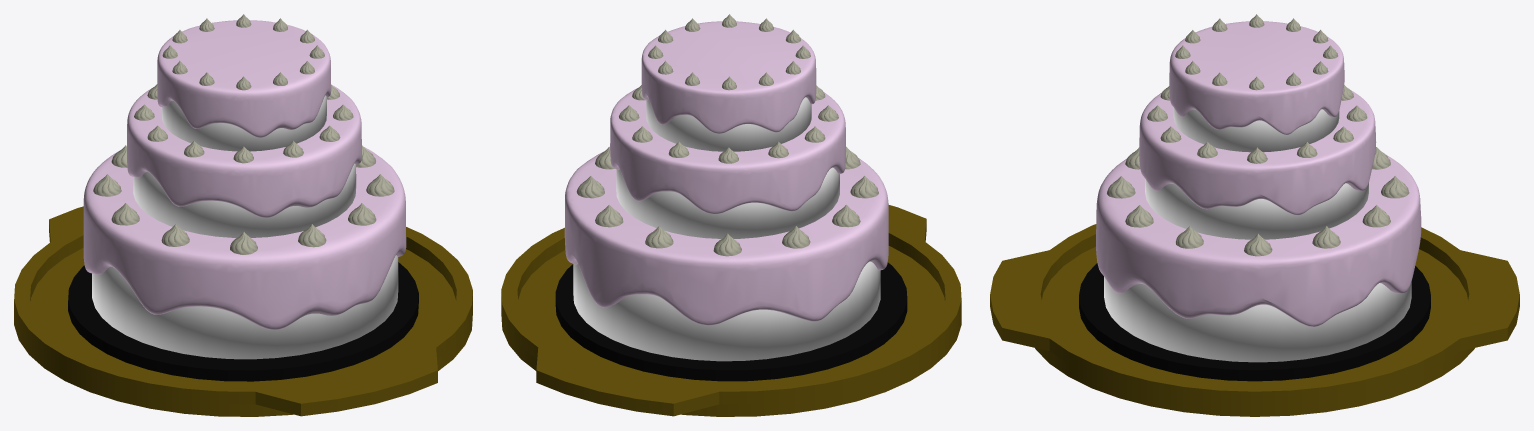
The model's file is Torta_DaText.fbx.
3 renders of one model, left to right at view 1: azimuth 30°, elevation 25°; view 2: azimuth 150°, elevation 25°; view 3: azimuth 270°, elevation 25°, orthographic.
Visible parts, largest first — view 1: MSH_TortaPiano1, MSH_Vassoio_Torta, MSH_TortaPiano2, MSH_TortaPiano3; view 2: MSH_TortaPiano1, MSH_Vassoio_Torta, MSH_TortaPiano2, MSH_TortaPiano3; view 3: MSH_TortaPiano1, MSH_Vassoio_Torta, MSH_TortaPiano2, MSH_TortaPiano3.
Boxes of the visible parts, bbox=[...] form: MSH_TortaPiano1: bbox=[68, 145, 418, 381]; MSH_Vassoio_Torta: bbox=[14, 206, 472, 416]; MSH_TortaPiano2: bbox=[127, 84, 361, 237]; MSH_TortaPiano3: bbox=[157, 14, 331, 151]; MSH_TortaPiano1: bbox=[555, 146, 907, 381]; MSH_Vassoio_Torta: bbox=[501, 205, 961, 416]; MSH_TortaPiano2: bbox=[610, 85, 845, 238]; MSH_TortaPiano3: bbox=[641, 14, 816, 151]; MSH_TortaPiano1: bbox=[1079, 147, 1430, 381]; MSH_Vassoio_Torta: bbox=[990, 224, 1519, 416]; MSH_TortaPiano2: bbox=[1139, 85, 1376, 239]; MSH_TortaPiano3: bbox=[1169, 14, 1344, 152].
Size of the model in its own units: 2 by 1.32 by 2.3.
